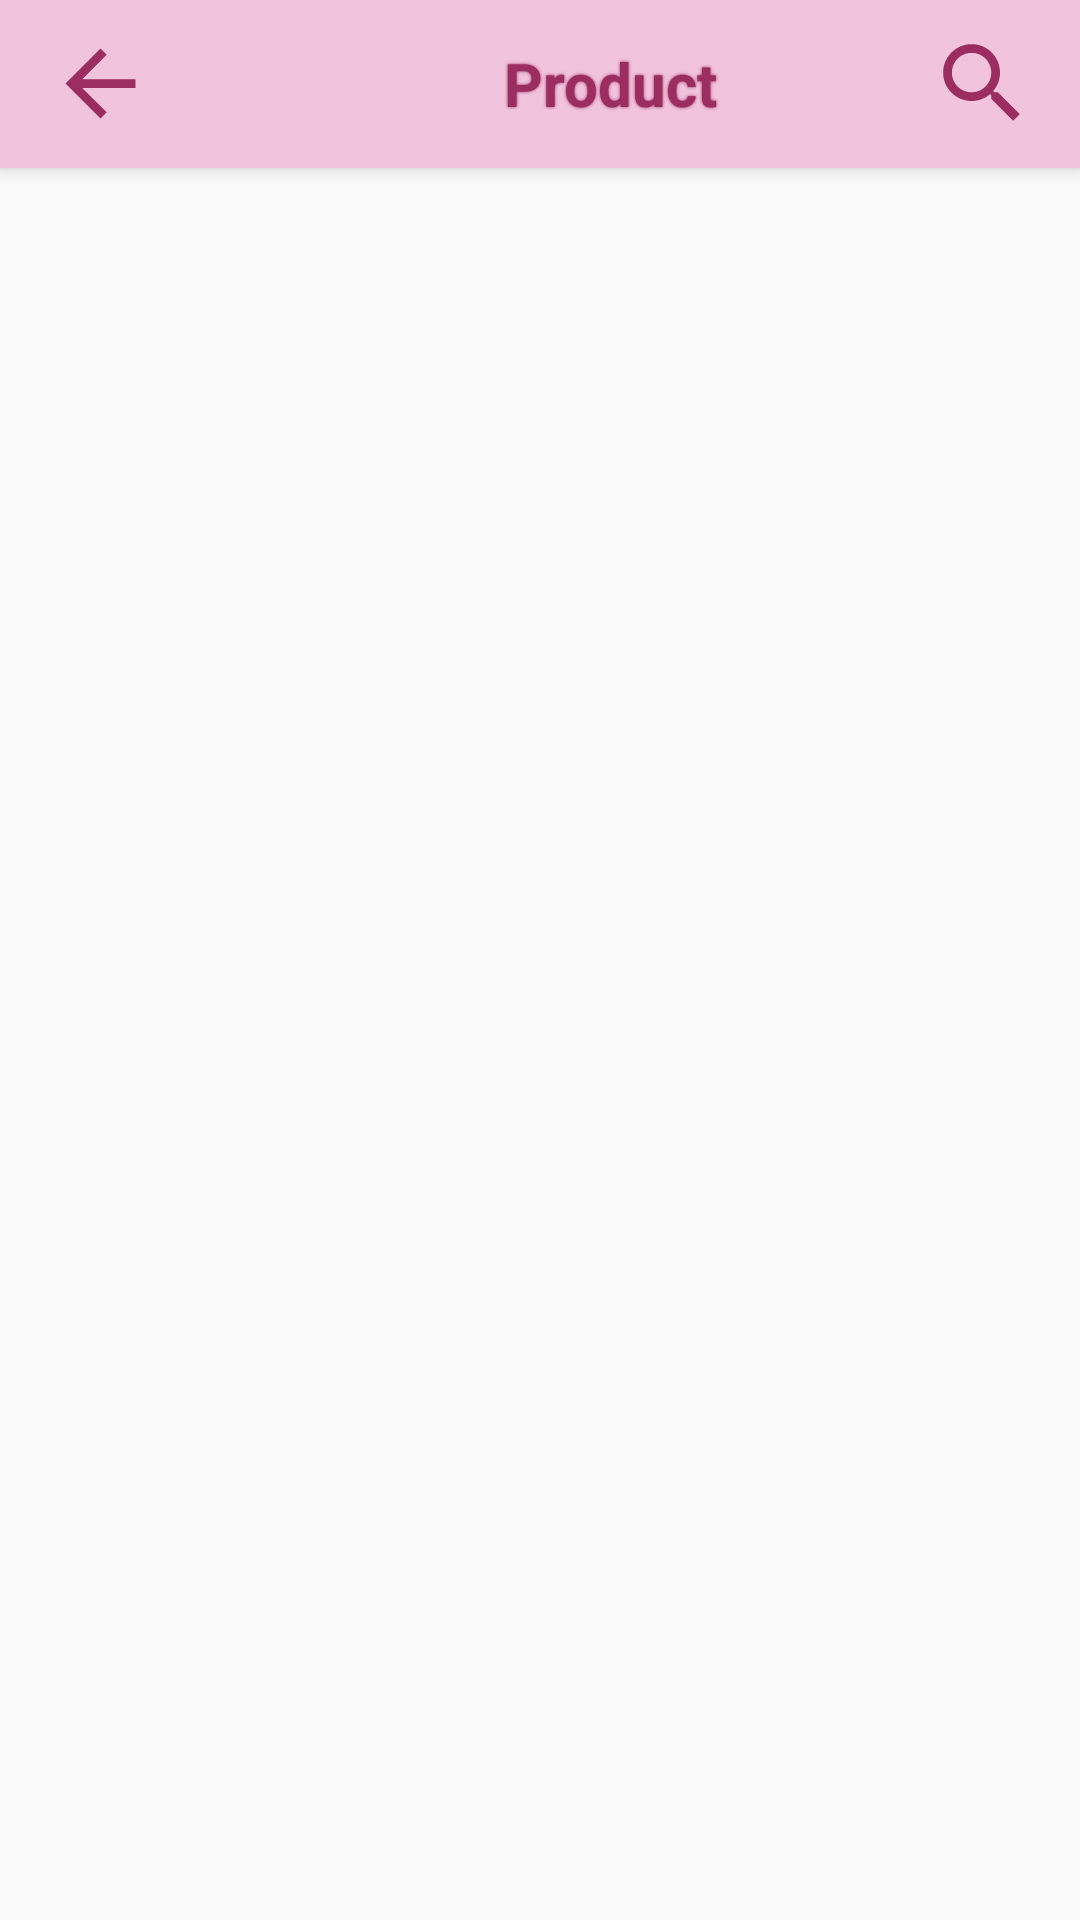

Named icons in this screenshot (1080px×1920px) and their centers, point (x, y):
back: point (100, 83)
search: point (981, 82)
